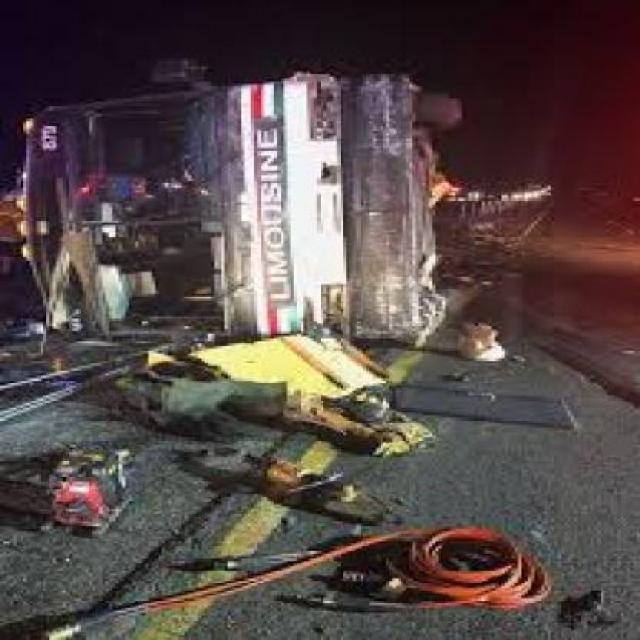accident: (22, 44, 582, 402)
